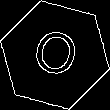O_S: (27, 25, 83, 85)
